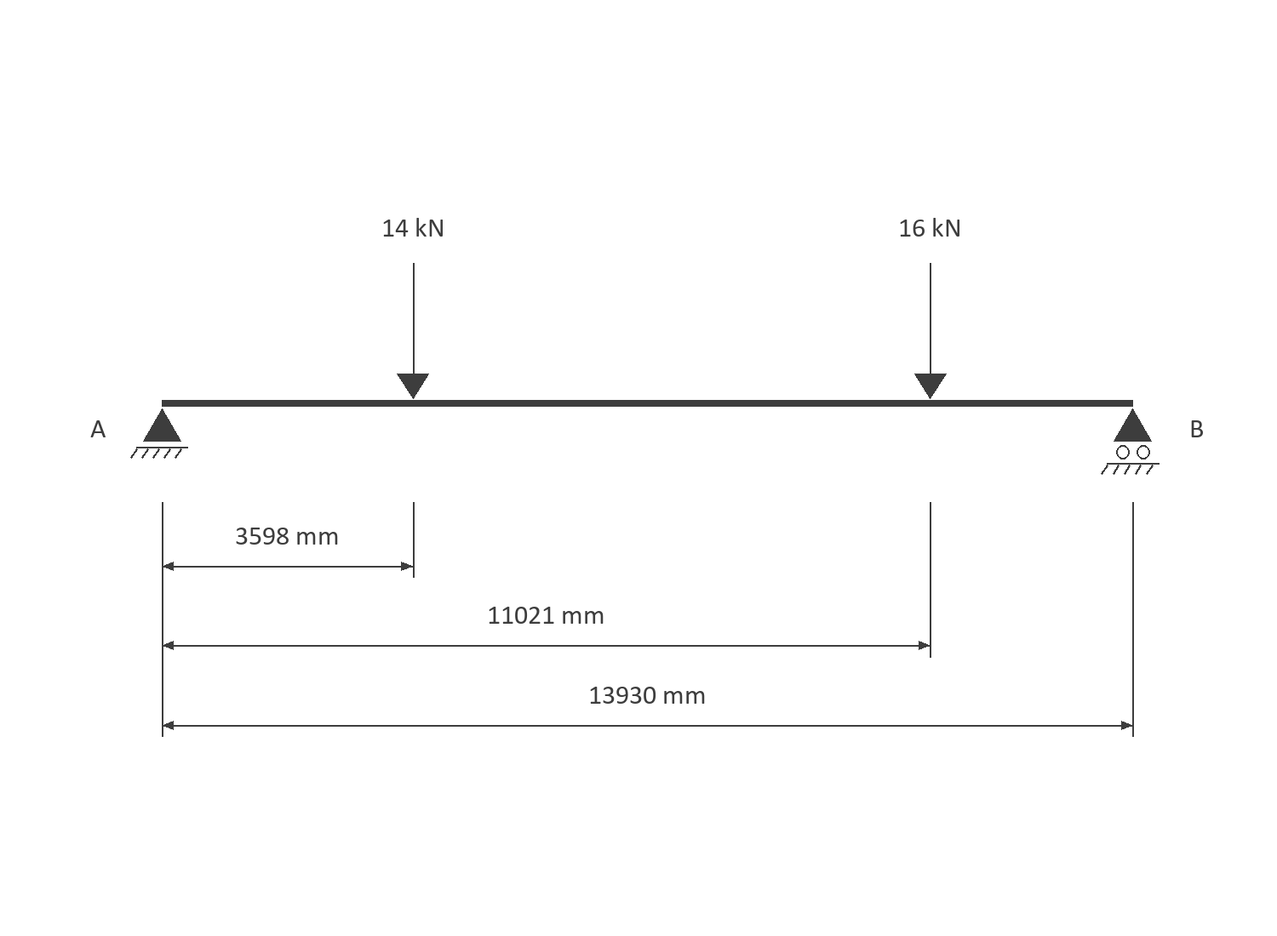pin_support: (130, 408, 188, 459)
point_load: (914, 263, 947, 399), (397, 263, 429, 399)
roller_support: (1101, 408, 1160, 475)
